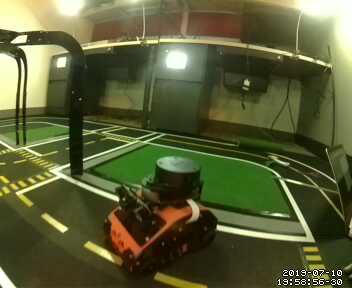pheeno: (102, 152, 220, 283)
